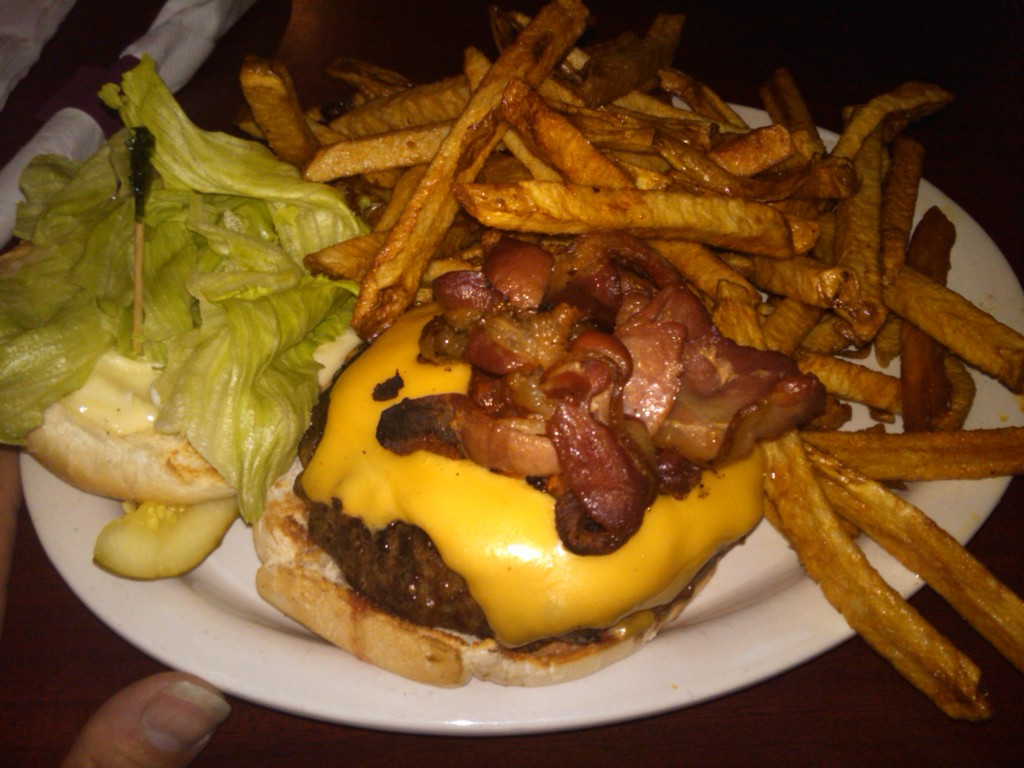French fries: (238, 0, 1024, 724)
